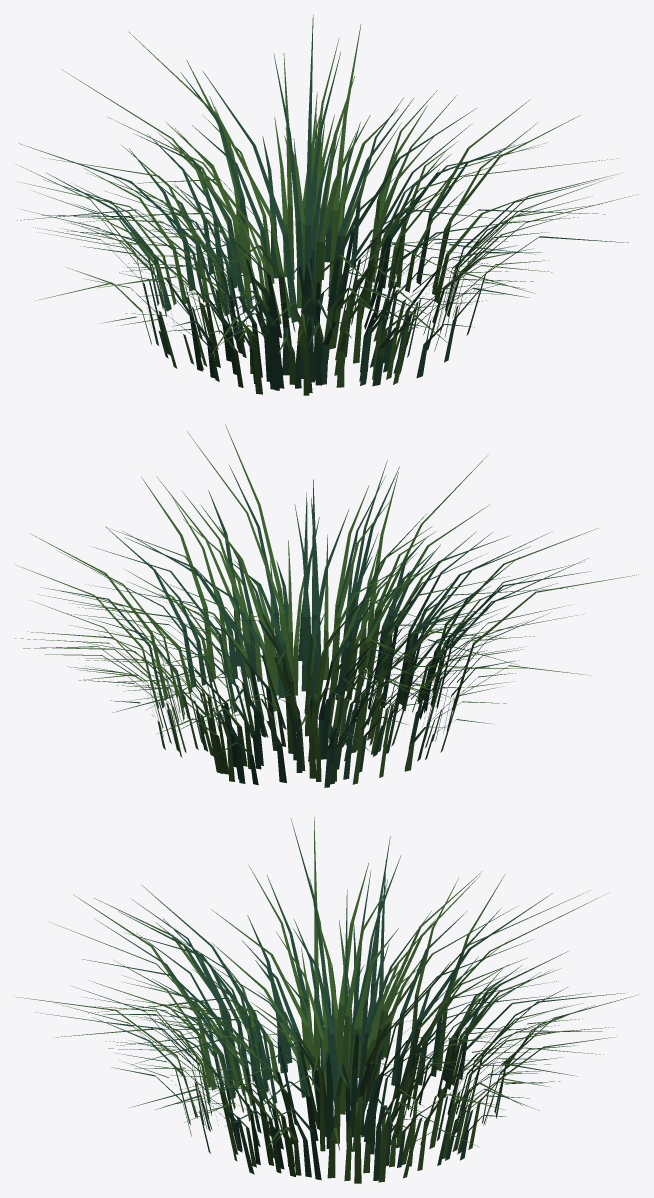
The model's file is shade_grass_v1.glb.
The picture shows the model from 3 angles, top to bottom: view 1: azimuth 30°, elevation 25°; view 2: azimuth 150°, elevation 25°; view 3: azimuth 270°, elevation 25°; orthographic projection. The views are drawn at different scales.
Parts seen in each view (by area): view 1: shade_grass_v1; view 2: shade_grass_v1; view 3: shade_grass_v1.
Boxes of the visible parts, left/top/right/bottom form: shade_grass_v1: left=16, top=14, right=637, bottom=395; shade_grass_v1: left=15, top=424, right=638, bottom=787; shade_grass_v1: left=14, top=816, right=638, bottom=1183.
Bounding box in the file's own units: 0.8145 × 0.2924 × 0.8026.
